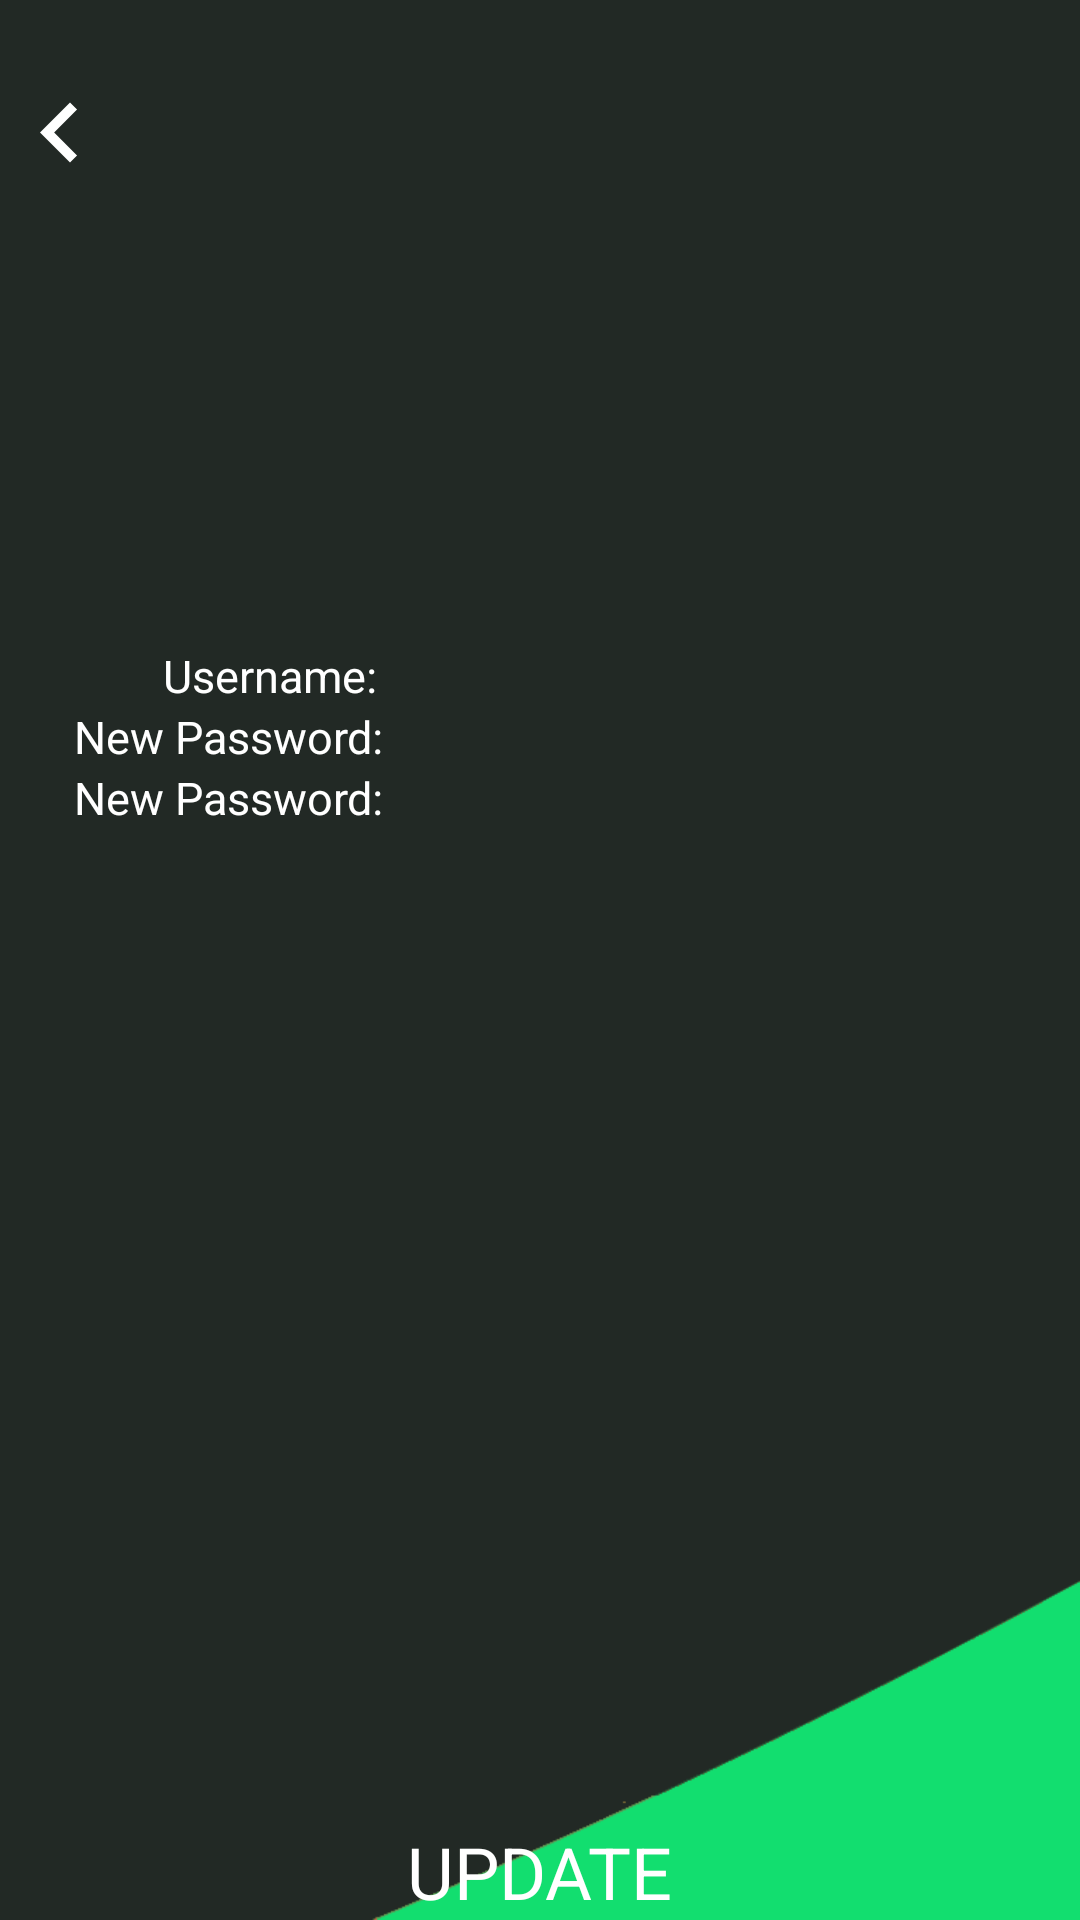

Icon bounding boxes for this 1080*1920 phone screenshot, format (x1, y1, x2, y2):
keyboard arrow left: (40, 102, 77, 163)
